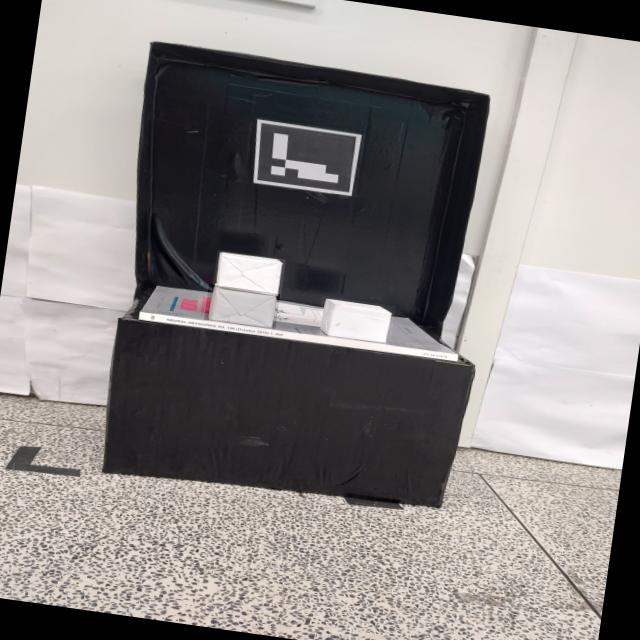bale: (316, 296, 396, 346), (203, 284, 280, 330), (212, 250, 286, 297)
